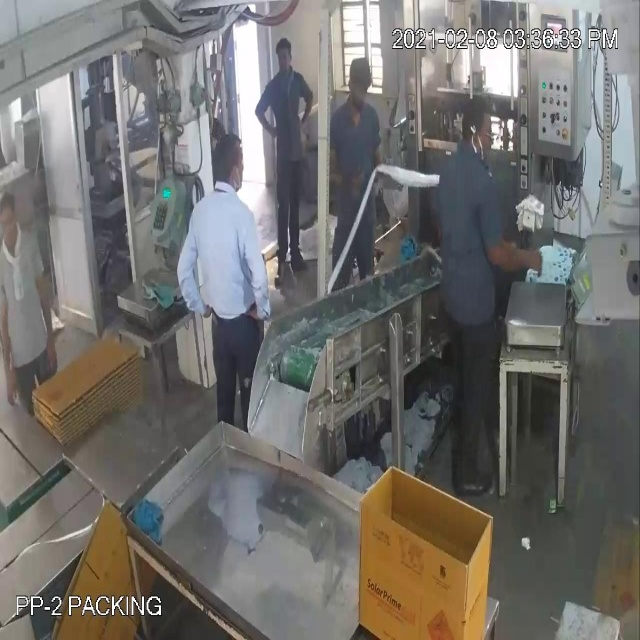Sin_guantes: (482, 222, 561, 302), (242, 229, 270, 337), (0, 291, 25, 409), (32, 260, 59, 369)
